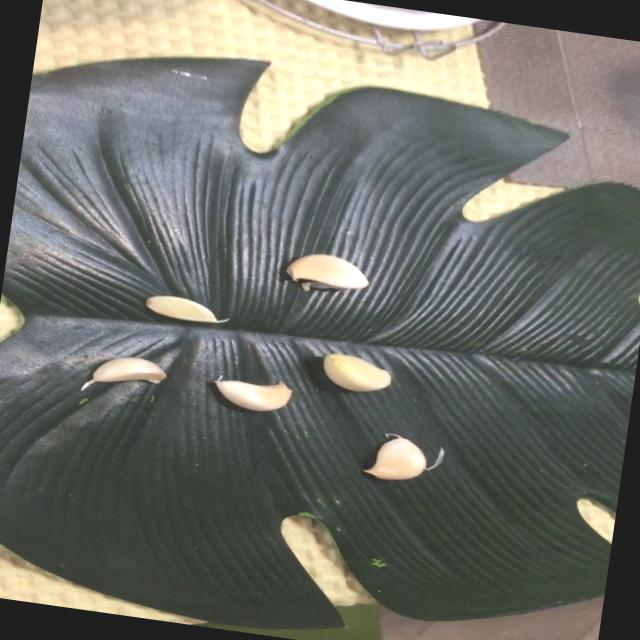bawang: (277, 247, 374, 300), (78, 348, 172, 400), (359, 428, 437, 488), (206, 373, 298, 419), (316, 350, 398, 398), (139, 290, 228, 329)
